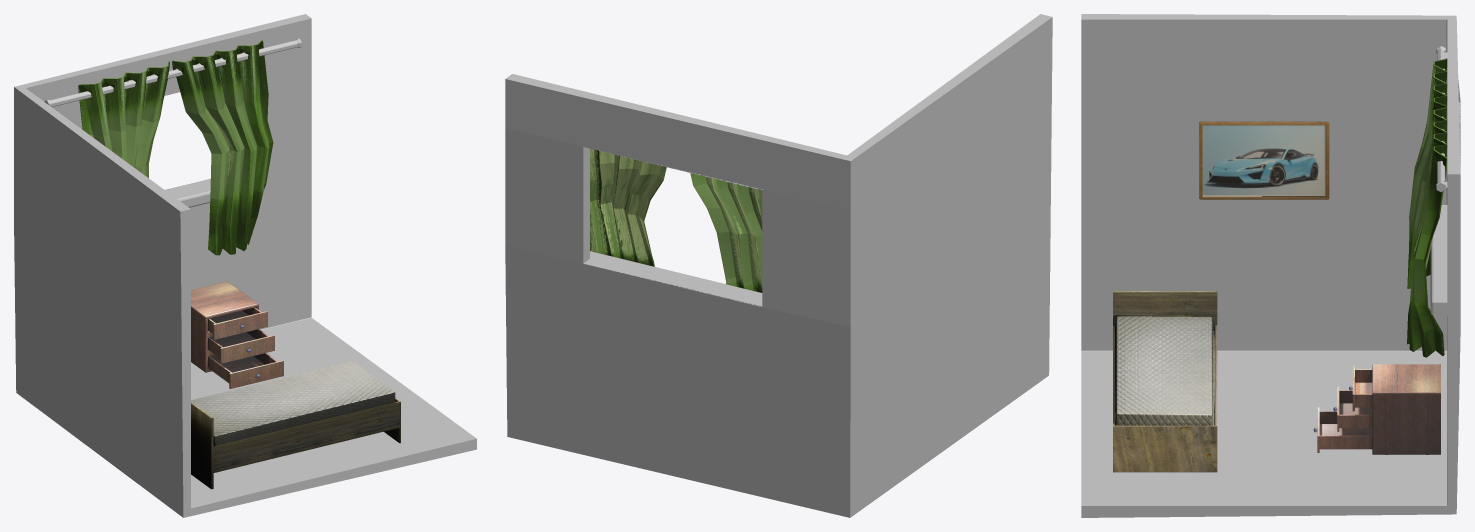
Rendered from room.gltf.
The picture shows the model from 3 angles, left to right: view 1: azimuth 30°, elevation 25°; view 2: azimuth 150°, elevation 25°; view 3: azimuth 270°, elevation 25°; orthographic projection. The views are drawn at different scales.
Parts seen in each view (by area): view 1: room, curtain, bed, desk, desk.003, desk.002, desk.001; view 2: room, curtain; view 3: room, bed, screen, curtain, desk, desk.003, desk.002, desk.001.
Part boxes in pixels (bbox=[...]): room: bbox=[14, 14, 476, 517]; curtain: bbox=[78, 40, 273, 255]; bed: bbox=[191, 361, 400, 489]; desk: bbox=[191, 281, 258, 372]; desk.003: bbox=[208, 353, 283, 388]; desk.002: bbox=[208, 329, 274, 363]; desk.001: bbox=[208, 307, 267, 339]; room: bbox=[505, 14, 1052, 517]; curtain: bbox=[590, 148, 762, 292]; room: bbox=[1081, 14, 1460, 517]; bed: bbox=[1113, 291, 1217, 472]; screen: bbox=[1199, 121, 1329, 199]; curtain: bbox=[1407, 59, 1447, 357]; desk: bbox=[1372, 364, 1440, 454]; desk.003: bbox=[1313, 407, 1372, 452]; desk.002: bbox=[1333, 386, 1372, 431]; desk.001: bbox=[1349, 365, 1372, 411].
Bounding box in the file's own units: 3.11 × 3.11 × 3.11.
